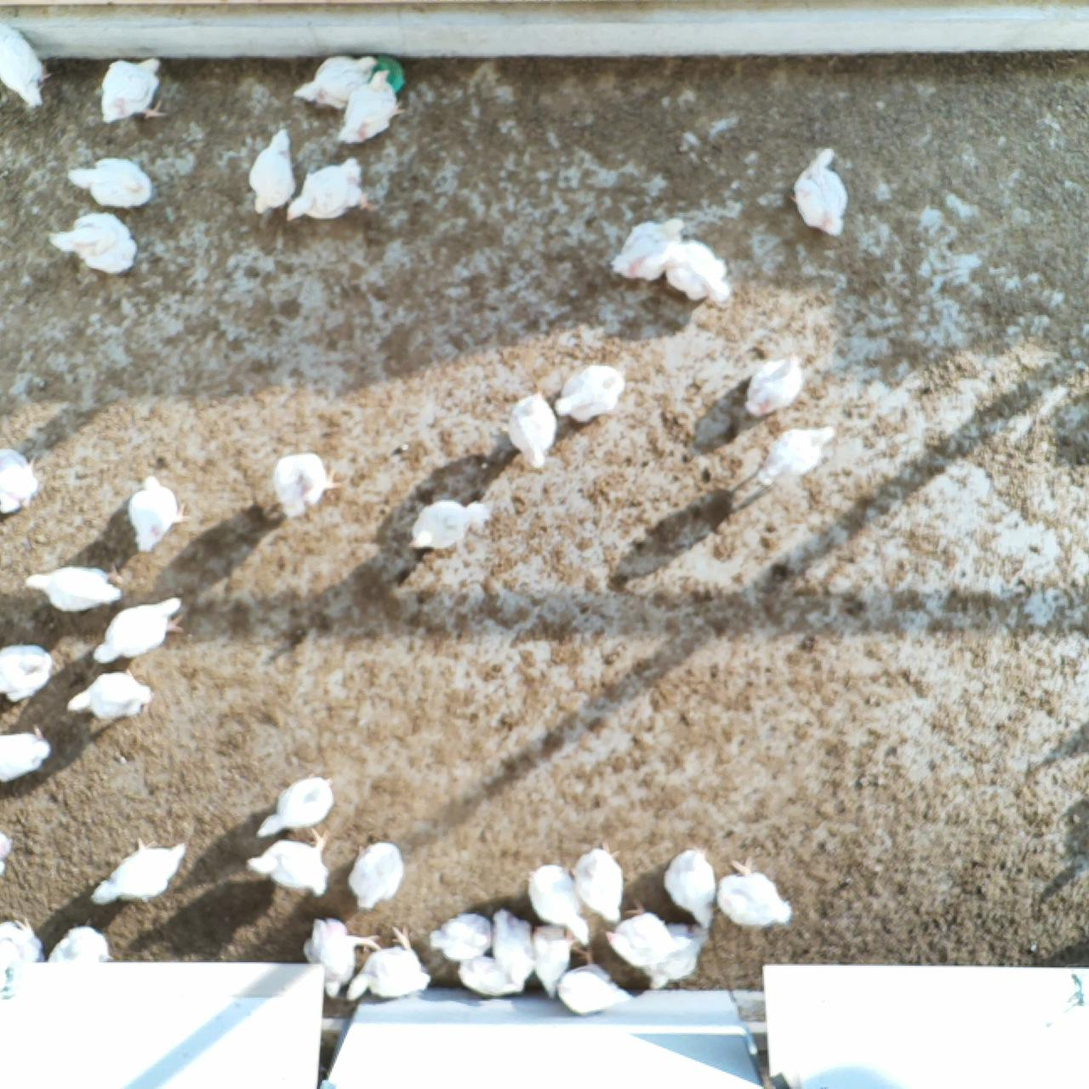chicken: (89, 832, 189, 908), (95, 591, 189, 671), (343, 922, 432, 1004), (299, 915, 383, 1000), (242, 824, 333, 900), (44, 208, 141, 279), (281, 154, 379, 224), (599, 897, 692, 970), (550, 943, 638, 1020), (524, 859, 596, 952), (785, 144, 854, 241), (714, 850, 797, 930), (333, 67, 413, 150), (730, 345, 809, 426), (253, 768, 338, 843), (23, 557, 127, 618), (269, 446, 349, 522), (125, 469, 196, 554), (291, 49, 382, 115), (607, 214, 690, 284), (567, 836, 630, 928), (64, 667, 156, 729), (756, 422, 839, 489), (498, 387, 561, 474), (404, 494, 492, 556), (663, 842, 723, 932), (94, 53, 170, 124), (248, 126, 304, 222), (659, 236, 733, 308), (63, 153, 156, 210), (552, 360, 631, 426), (0, 15, 54, 111), (342, 836, 405, 917), (641, 921, 710, 994), (529, 913, 580, 1001), (490, 903, 540, 992), (427, 905, 497, 966), (0, 639, 56, 708), (45, 917, 114, 970), (0, 720, 52, 787), (452, 949, 518, 999), (0, 444, 43, 520), (0, 915, 47, 970)
